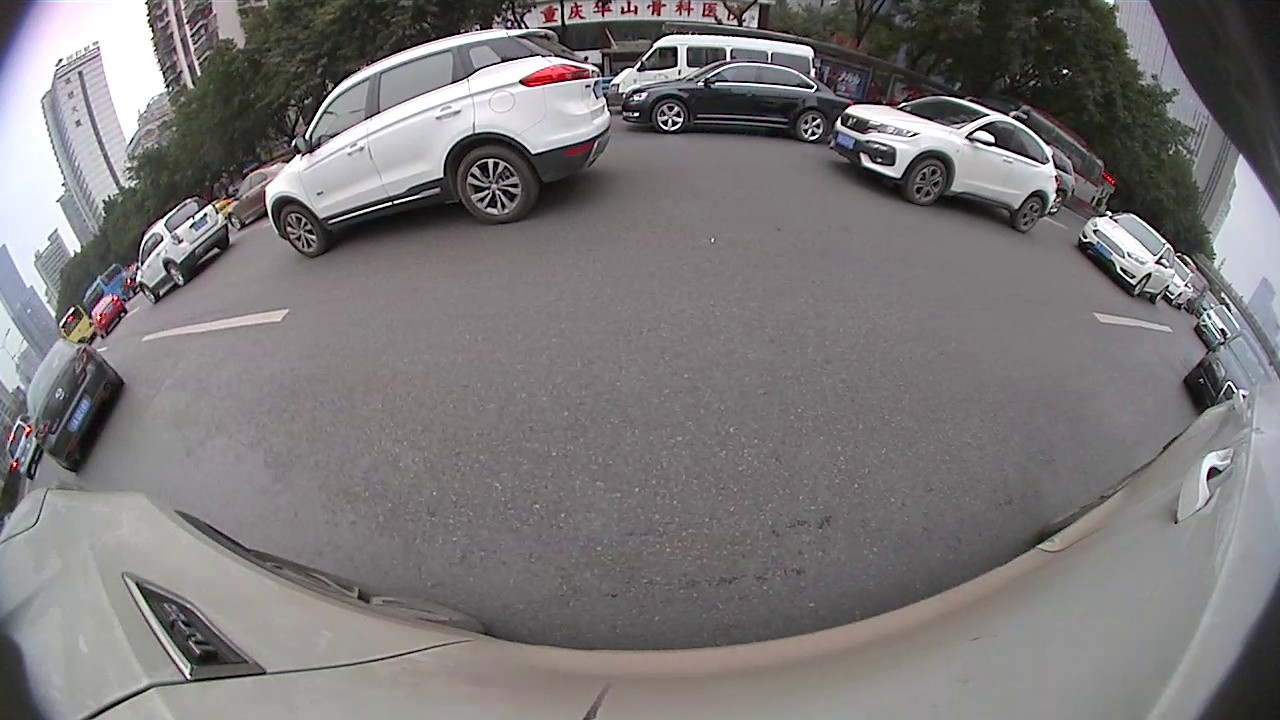bus: (82, 263, 136, 313), (54, 304, 98, 347)
car: (263, 28, 614, 258), (828, 95, 1060, 236), (621, 60, 857, 144), (606, 33, 816, 121), (24, 338, 126, 473), (136, 196, 231, 305), (1076, 211, 1177, 304), (1180, 331, 1271, 416), (227, 164, 294, 231), (6, 413, 45, 481), (1195, 304, 1242, 350), (90, 294, 127, 335)
front: (279, 205, 323, 255), (905, 159, 947, 205), (650, 98, 689, 134), (1131, 275, 1149, 297), (227, 212, 243, 228), (1169, 295, 1179, 306)
rear: (456, 144, 535, 225), (1014, 196, 1044, 233), (796, 111, 826, 145), (162, 262, 187, 289), (138, 282, 159, 304), (1047, 192, 1065, 215), (1151, 287, 1167, 304), (1178, 300, 1188, 312)
